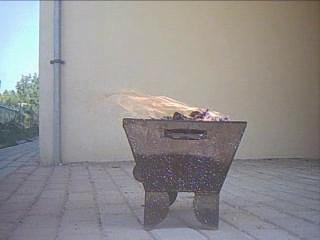fire: (102, 88, 196, 123)
